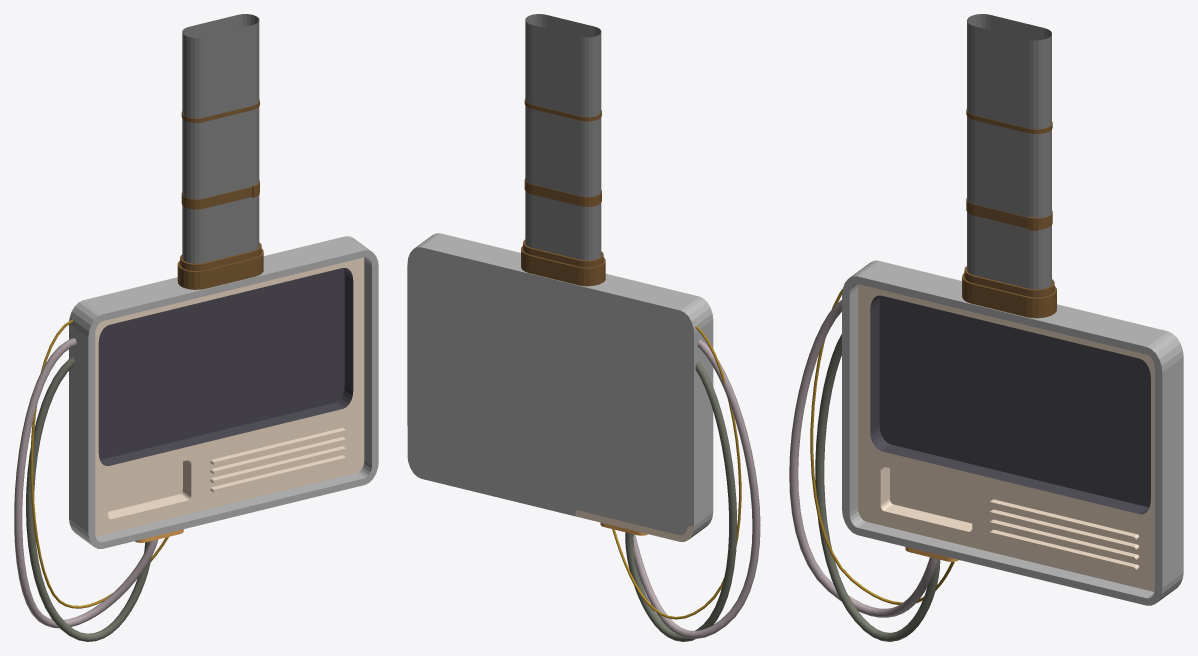
Rendered from radar_square.fbx.
3 views of the same model, side by side, from view 1: azimuth 30°, elevation 25°; view 2: azimuth 150°, elevation 25°; view 3: azimuth 330°, elevation 25° (orthographic). The views are drawn at different scales.
Parts seen in each view (by area): view 1: radio square; view 2: radio square; view 3: radio square.
Boxes of the visible parts, x1,y1,x2,y2 form: radio square: (14,14,378,641); radio square: (407,14,760,641); radio square: (789,14,1183,641).
Bounding box in the file's own units: 286 × 459 × 35.11.
